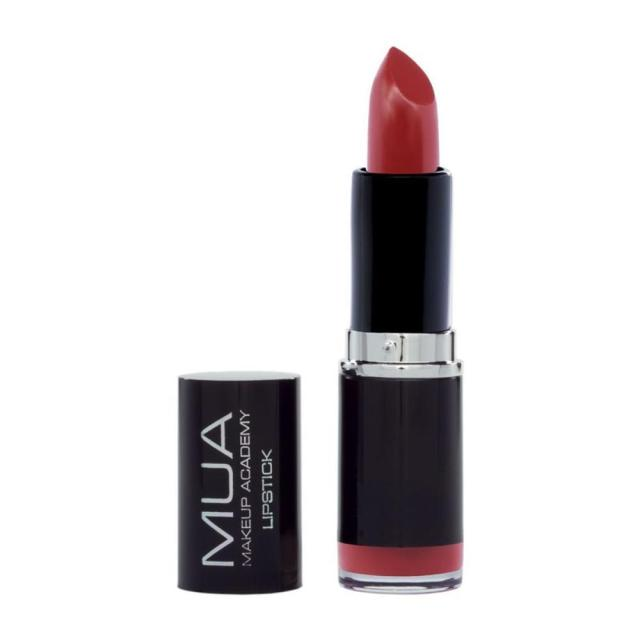lipstick: (320, 39, 490, 604)
